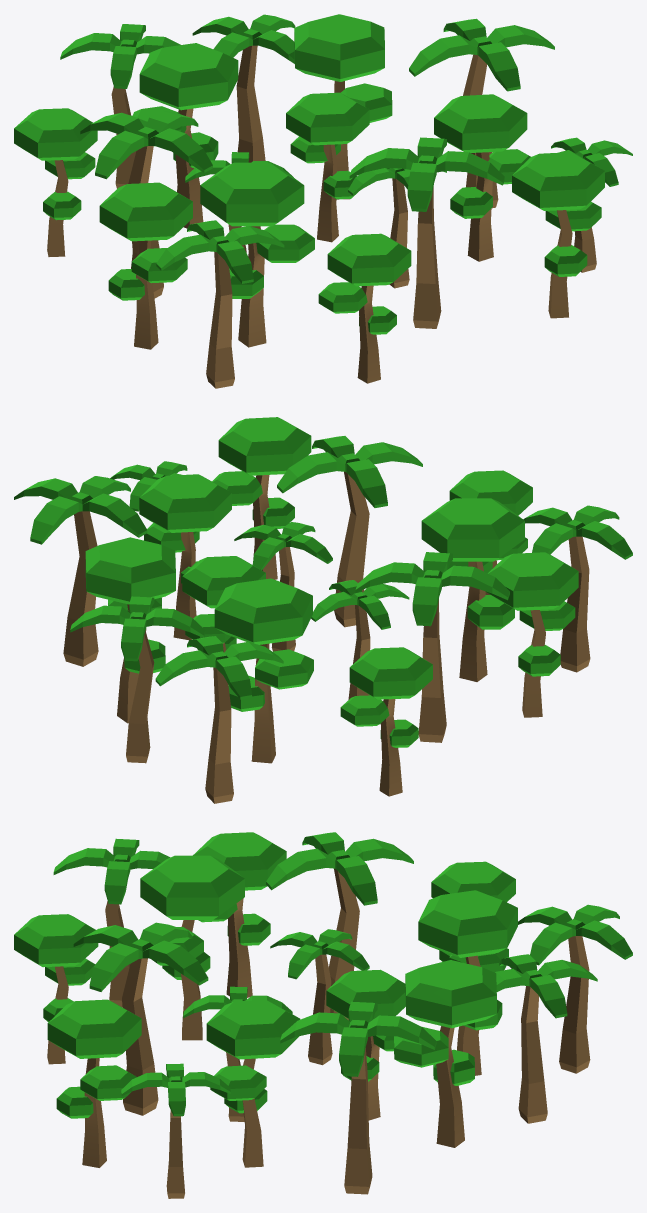
Rendered from nature_jungleFlat.fbx.
3 renders of one model, top to bottom at view 1: azimuth 30°, elevation 25°; view 2: azimuth 150°, elevation 25°; view 3: azimuth 270°, elevation 25°, orthographic.
Parts seen in each view (by area): view 1: Jungle; view 2: Jungle; view 3: Jungle.
Boxes of the visible parts, box(x1,y1,x2,y2) form: Jungle: box(14, 14, 632, 388); Jungle: box(14, 417, 632, 803); Jungle: box(14, 832, 632, 1198).
Size of the model in its own units: 178 by 56.81 by 187.
